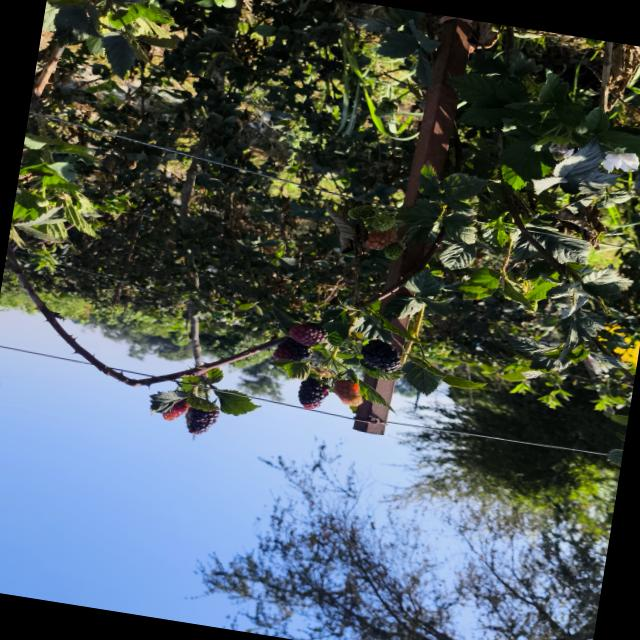maduro: (361, 340, 400, 373)
marron: (298, 377, 328, 410), (273, 338, 312, 362), (186, 407, 219, 435), (288, 323, 327, 346)
naranja: (334, 380, 363, 407), (365, 229, 396, 250), (162, 400, 189, 421)
verde: (348, 205, 376, 220), (371, 215, 394, 231), (384, 242, 404, 260)
